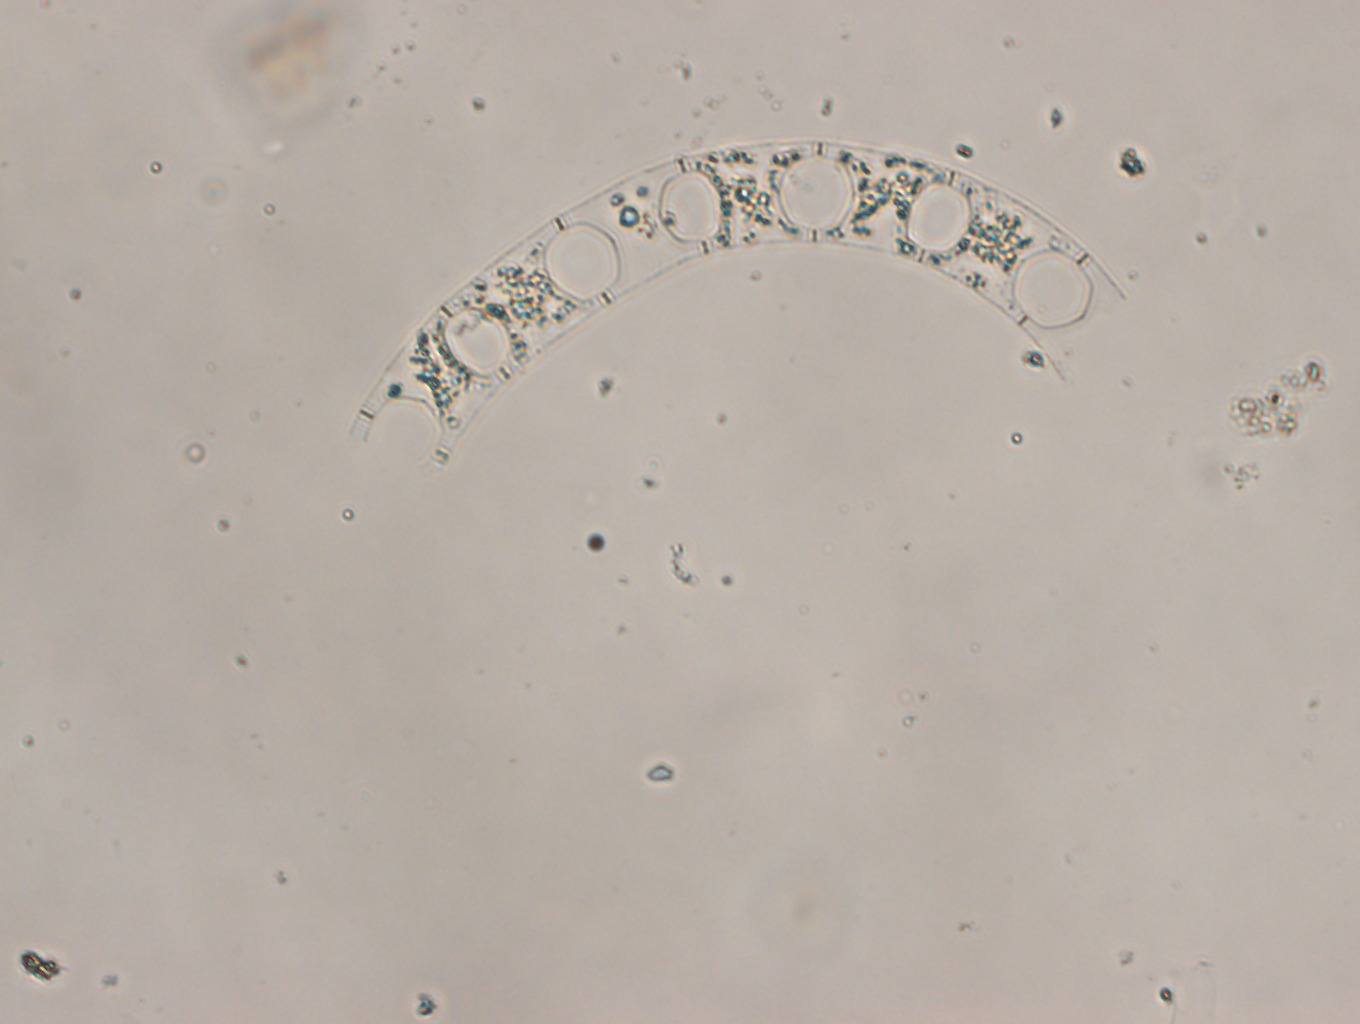eucampia: (332, 120, 1141, 459)
